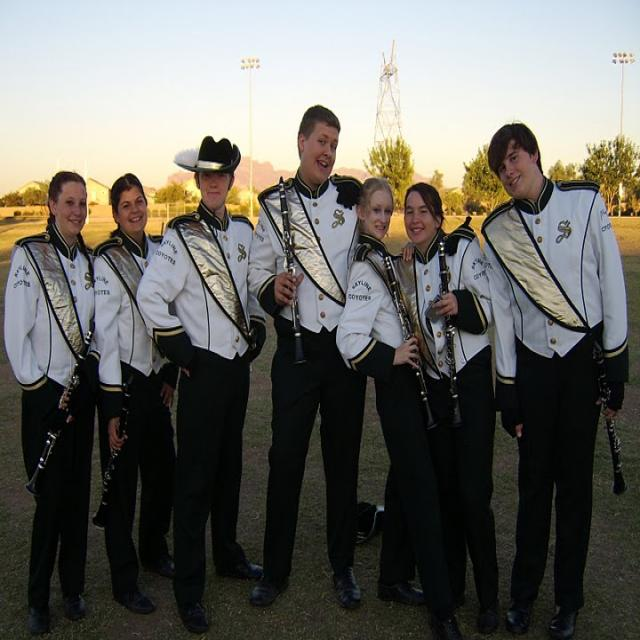clarinet: (24, 321, 97, 499), (381, 253, 437, 434), (90, 378, 137, 530), (591, 336, 632, 500), (435, 235, 467, 432), (277, 177, 310, 367)
